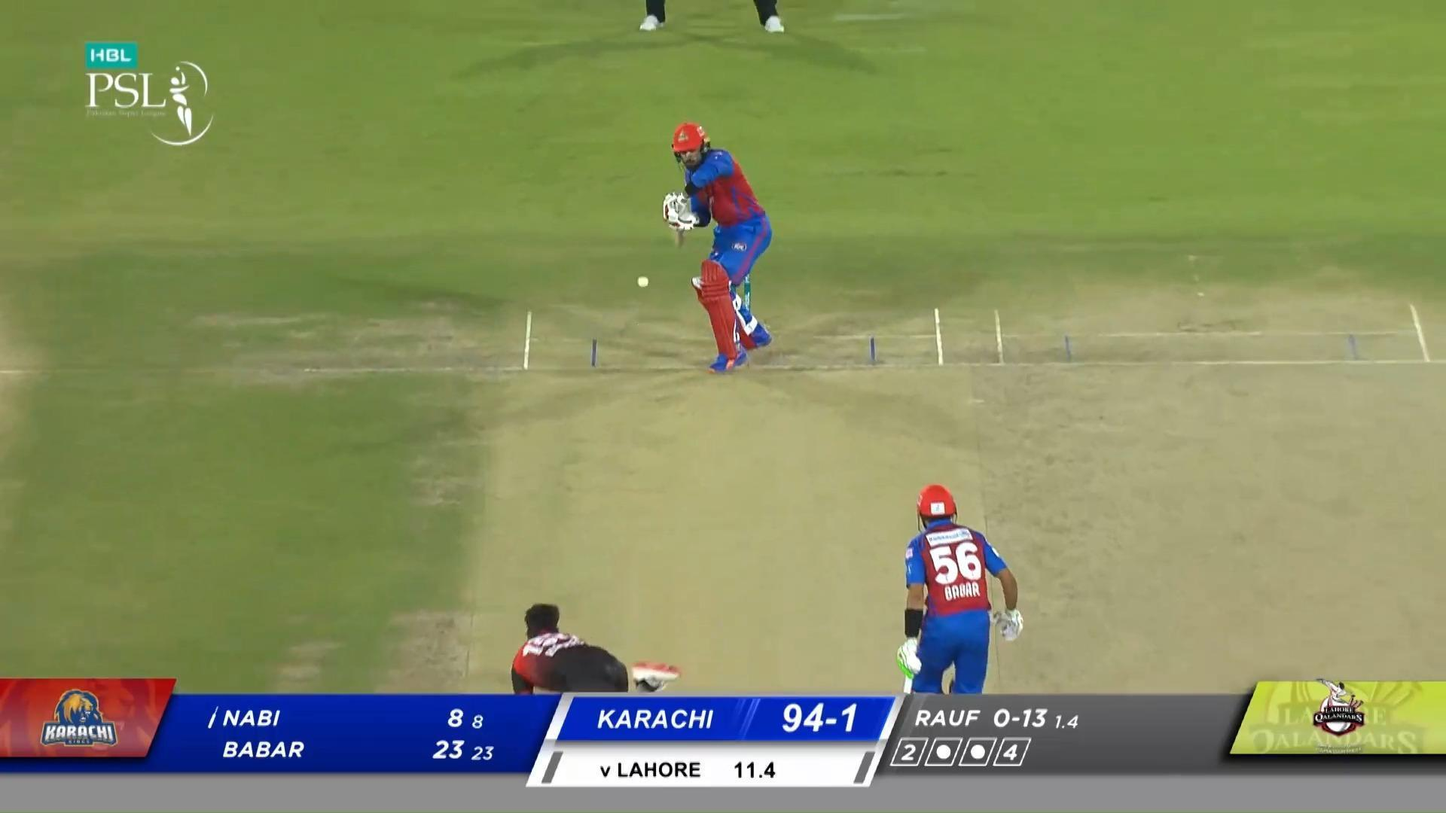BM 1: (662, 124, 773, 375)
BO: (895, 481, 1025, 777)
